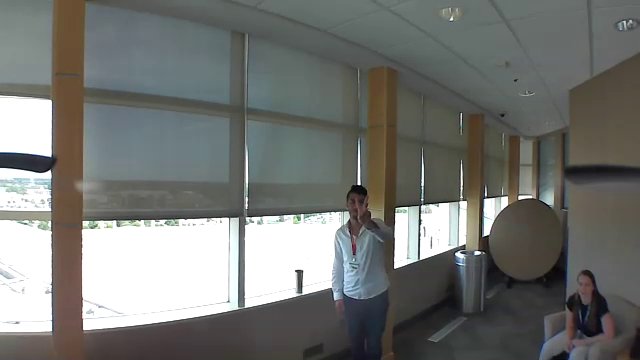peace: (352, 188, 375, 231)
